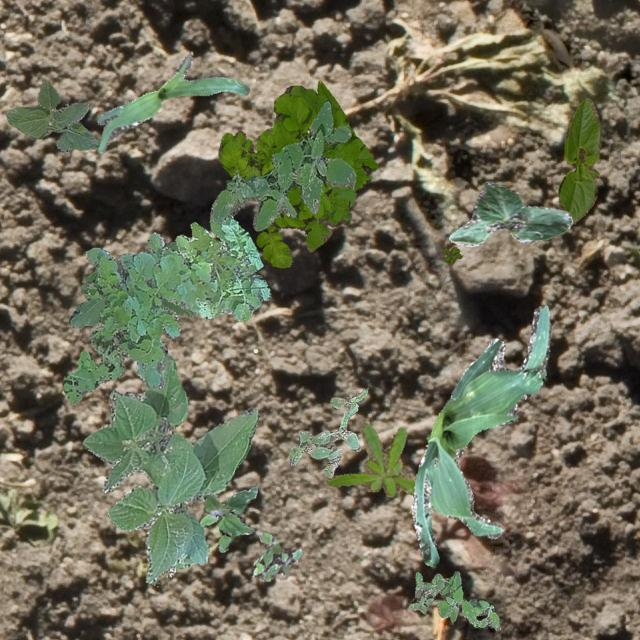crop: (82, 358, 258, 584), (410, 304, 550, 566), (95, 51, 248, 152), (448, 180, 572, 246), (4, 80, 98, 150), (558, 96, 600, 222), (122, 338, 172, 399)
weed: (61, 214, 270, 404), (218, 80, 376, 266), (210, 98, 354, 230), (68, 240, 194, 326), (288, 388, 366, 477), (324, 422, 414, 496), (408, 570, 500, 630), (200, 486, 256, 550), (252, 530, 302, 580), (442, 246, 462, 264)
